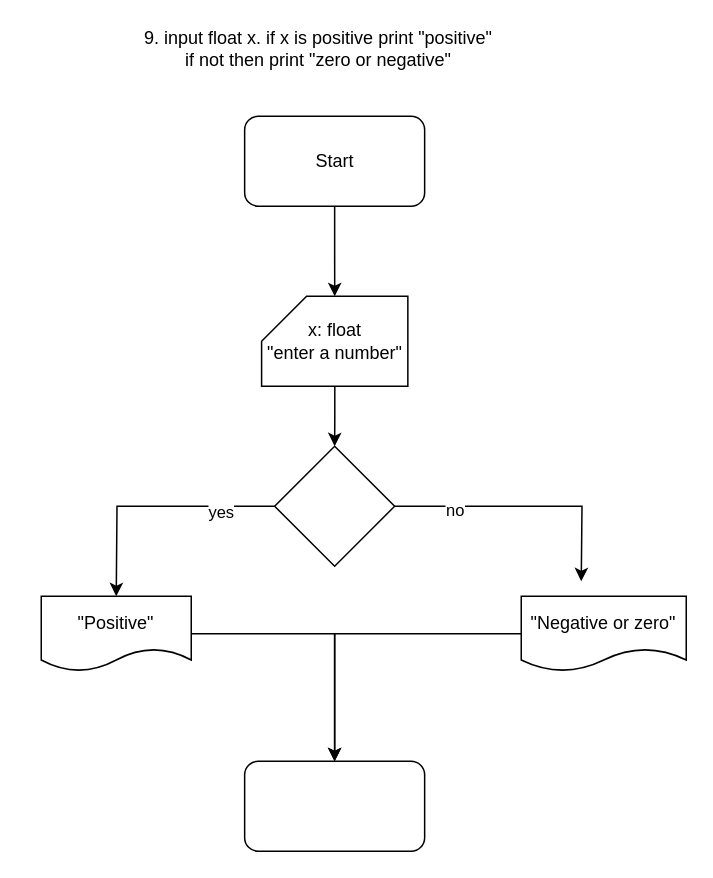
The diagram is 713 pixels wide and 878 high, and some of its shapes have lost their labels. Here are the shapes that lost their labels. From the top down, the centre of each, then its label:
point (334, 505): x > 0 ?
point (334, 805): End
